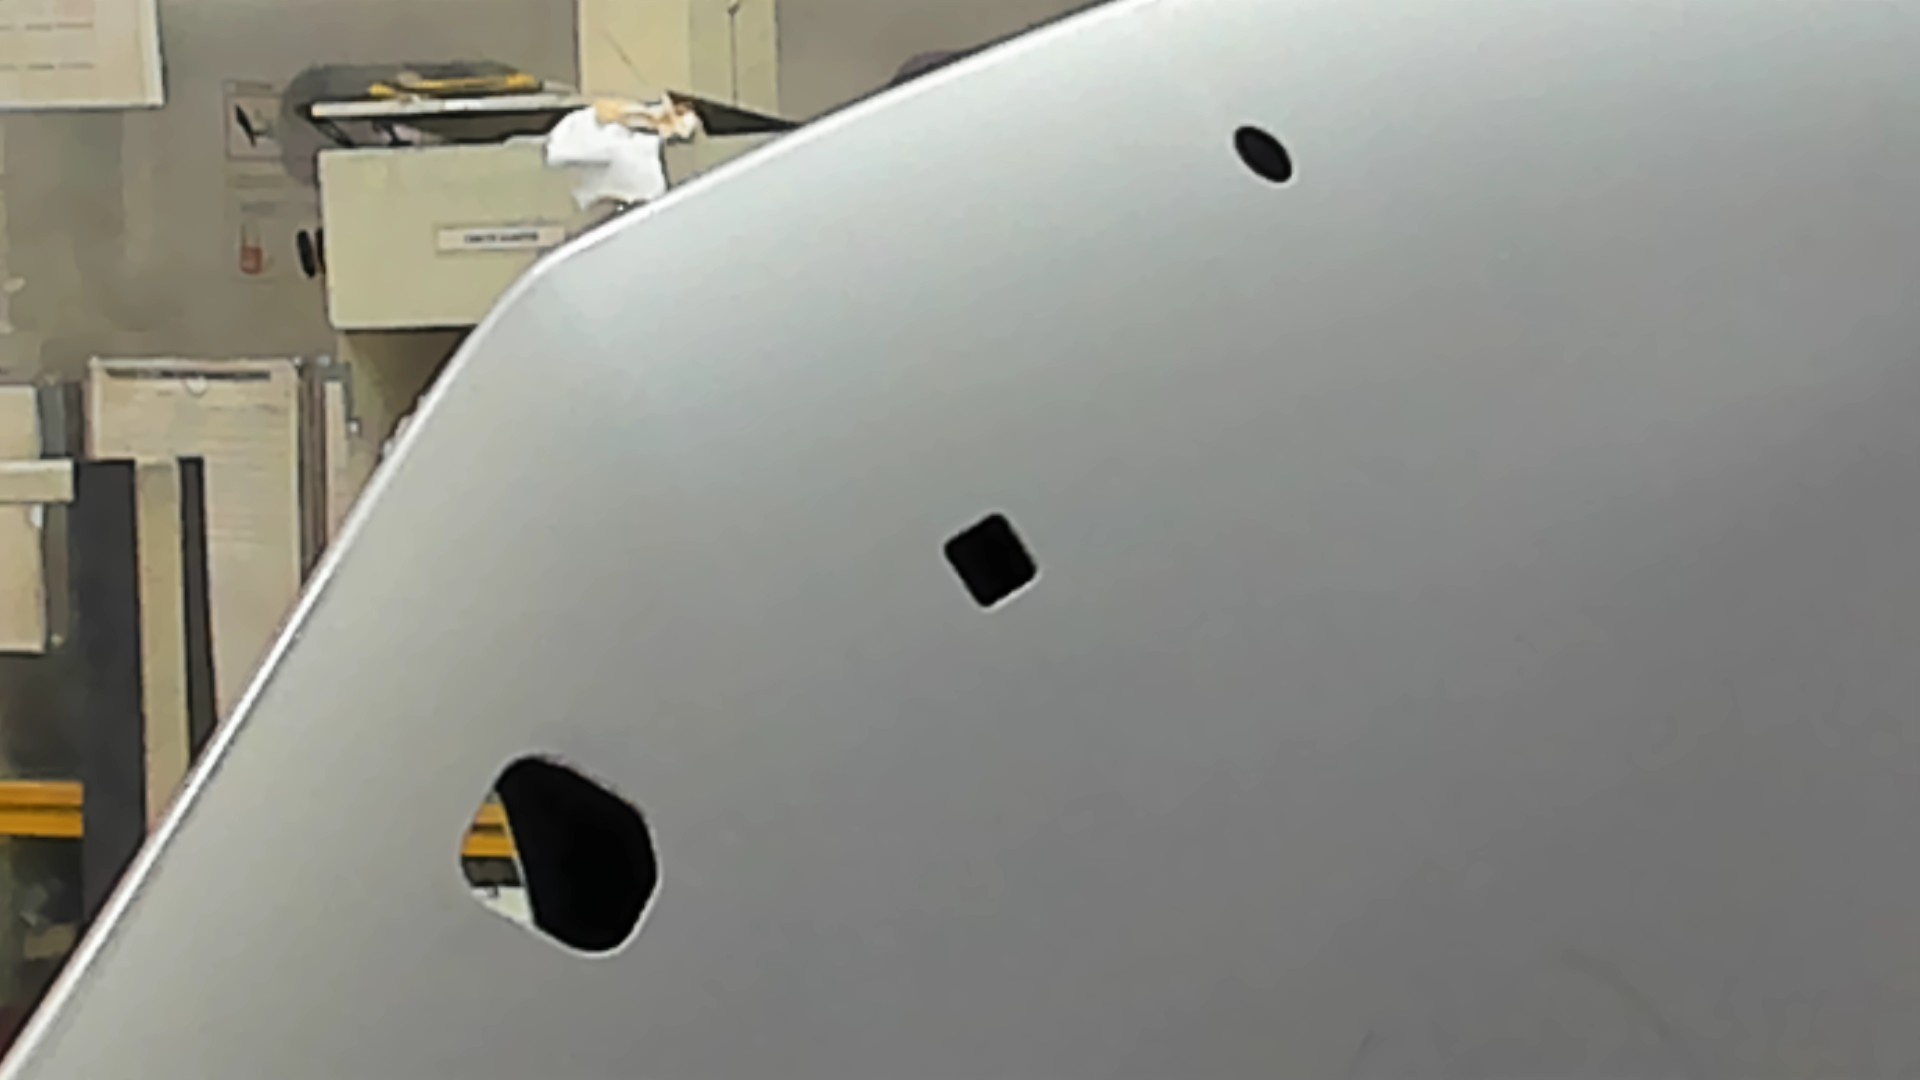Agujero: (942, 512, 1044, 611), (1232, 124, 1296, 186)
Agujerote: (456, 754, 663, 960)
